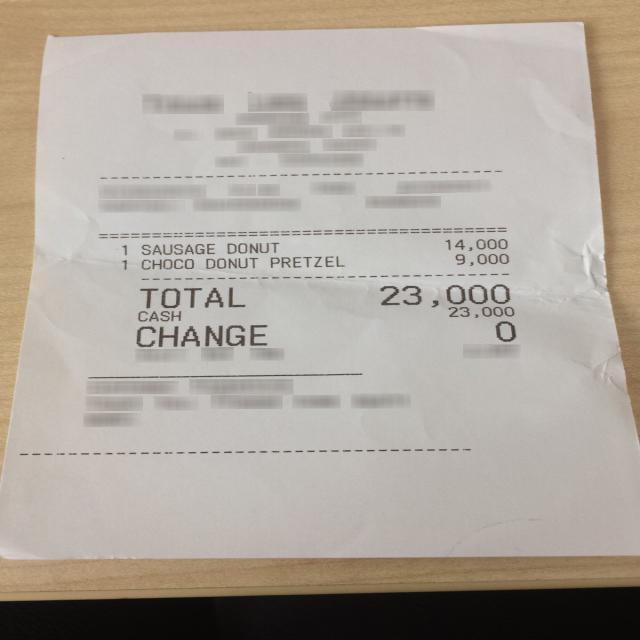kertas: (0, 22, 636, 559)
